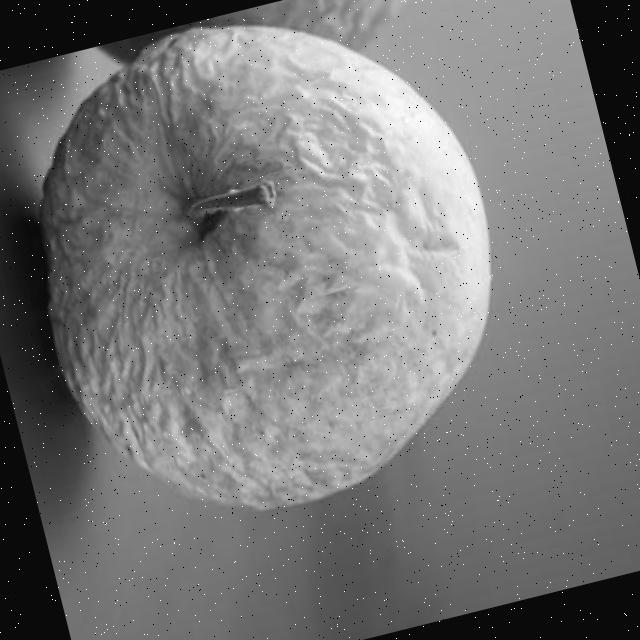overripe: (0, 0, 546, 557)
